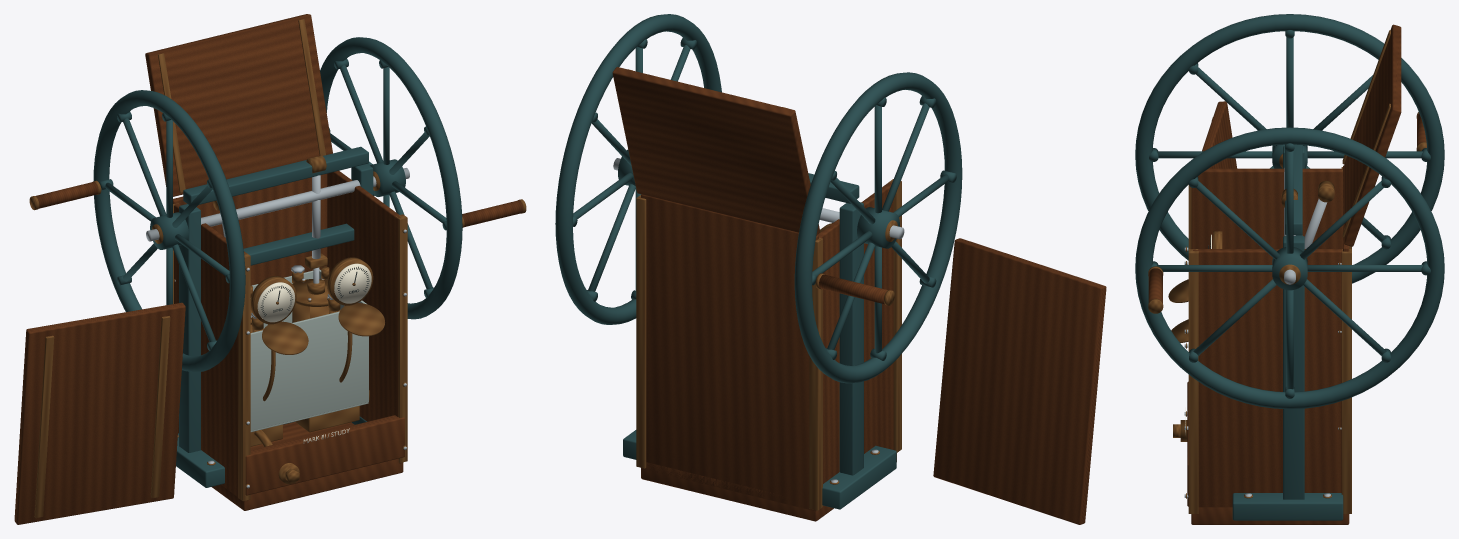
Rendered from mark-iii-pump.glb.
3 views of the same model, side by side, from view 1: azimuth 30°, elevation 25°; view 2: azimuth 150°, elevation 25°; view 3: azimuth 270°, elevation 25° (orthographic). The views are drawn at different scales.
Parts seen in each view (by area): view 1: Removable panel, Ash pump lid, CisternFront_RemovableTeachingSection, Flywheel rim, Ash case side.001, Ash case side, Case lower apron, Flywheel rim.001, Ash case back, Cast iron upright, Case bottom, Frame horizontal rail.002 (+28 smaller); view 2: Ash case back, Removable panel, Ash pump lid, Flywheel rim, Flywheel rim.001, Ash case side, Cast iron upright, Brass corner protector.003, Case bottom, Brass corner protector.001, Pump foot, Brass corner protector (+7 smaller); view 3: Ash case side.001, Flywheel rim.001, Flywheel rim, Ash case side, Ash pump lid, Cast iron upright.001, Pump foot.001, Brass corner protector.002, Brass corner protector.003, Case bottom, Removable panel, Frame horizontal rail.002 (+19 smaller).
Part boxes in pixels (x1,y1,x2,y2): Removable panel: (14, 302, 185, 524); Ash pump lid: (145, 14, 332, 196); CisternFront_RemovableTeachingSection: (250, 311, 368, 430); Flywheel rim: (93, 90, 245, 372); Ash case side.001: (327, 170, 402, 463); Ash case side: (174, 203, 248, 501); Case lower apron: (245, 415, 404, 495); Flywheel rim.001: (320, 37, 462, 319); Ash case back: (173, 173, 327, 285); Cast iron upright: (179, 204, 200, 452); Case bottom: (212, 422, 403, 510); Frame horizontal rail.002: (183, 146, 368, 204); Ash case back: (641, 194, 818, 511); Removable panel: (933, 238, 1106, 524); Ash pump lid: (612, 67, 819, 235); Flywheel rim: (794, 72, 962, 383); Flywheel rim.001: (555, 14, 721, 324); Ash case side: (818, 181, 893, 483); Cast iron upright: (839, 202, 863, 475); Brass corner protector.003: (636, 195, 646, 468); Case bottom: (641, 448, 896, 521); Brass corner protector.001: (809, 237, 822, 510); Pump foot: (822, 445, 896, 509); Brass corner protector: (888, 179, 901, 452); Ash case side.001: (1193, 249, 1342, 507); Flywheel rim.001: (1135, 127, 1444, 409); Flywheel rim: (1135, 14, 1444, 283); Ash case side: (1191, 168, 1342, 248); Ash pump lid: (1344, 24, 1401, 246); Cast iron upright.001: (1283, 236, 1304, 499); Pump foot.001: (1232, 493, 1343, 520); Brass corner protector.002: (1188, 249, 1198, 513); Brass corner protector.003: (1341, 249, 1351, 513); Case bottom: (1191, 507, 1349, 524); Removable panel: (1202, 101, 1237, 168); Frame horizontal rail.002: (1285, 144, 1302, 235).
Size of the model in its own units: 1.46 by 1.17 by 0.784.
Materials: 8 (2 with a texture image).
